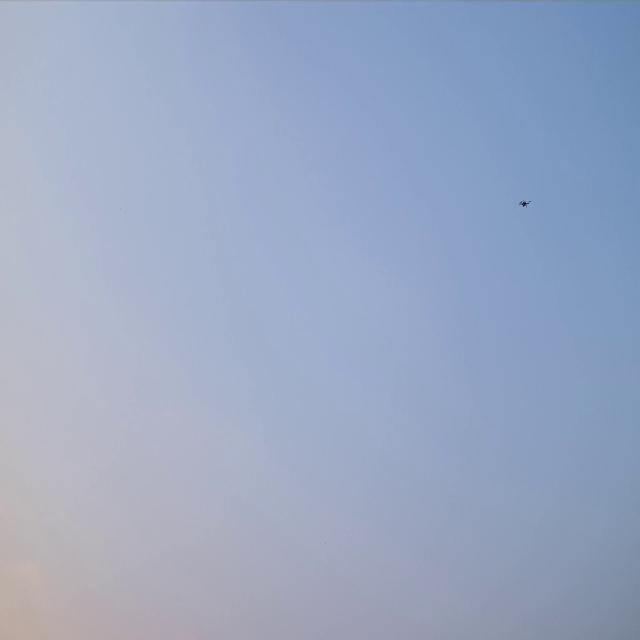UAV: (519, 199, 531, 207)
